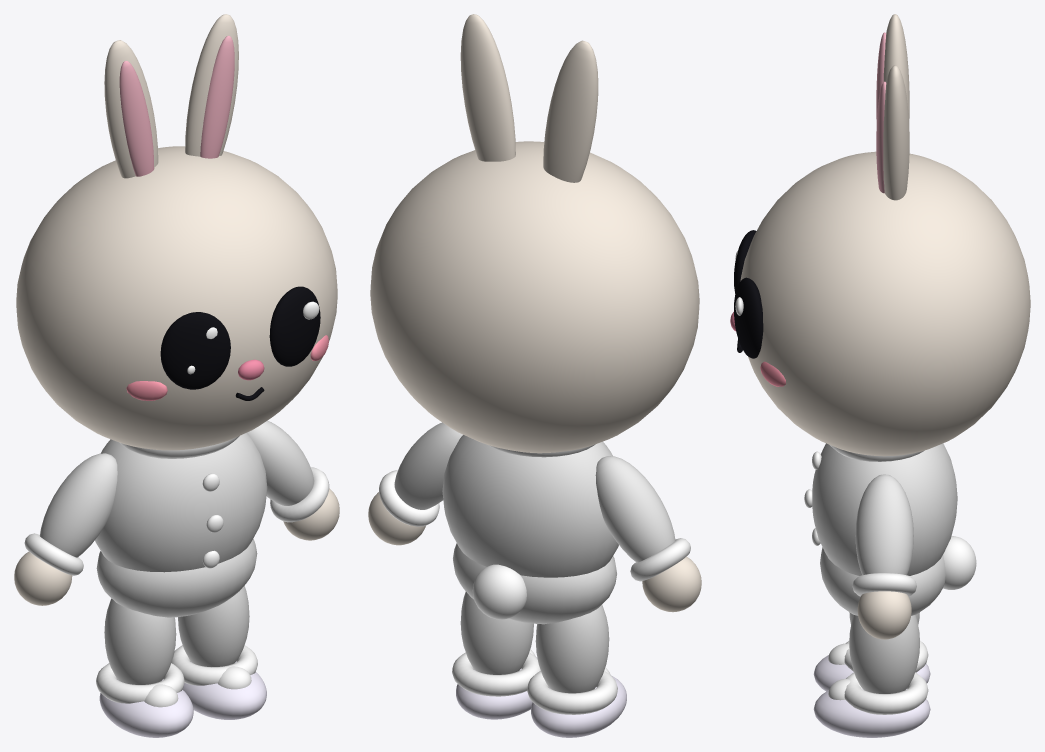
Rendered from Pip_Bunny.fbx.
The picture shows the model from 3 angles, left to right: view 1: azimuth 30°, elevation 25°; view 2: azimuth 150°, elevation 25°; view 3: azimuth 270°, elevation 25°; orthographic projection. The views are drawn at different scales.
Visible parts, largest first — view 1: Pip_Bunny_Head, Pip_Bunny_UpperTorso, Pip_Bunny_LowerTorso, Pip_Bunny_RightUpperArm, Pip_Bunny_RightUpperLeg, Pip_Bunny_LeftUpperLeg, Pip_Bunny_LeftUpperArm, Pip_Bunny_RightFoot, Pip_Bunny_LeftFoot, Pip_Bunny_RightHand, Pip_Bunny_LeftHand; view 2: Pip_Bunny_Head, Pip_Bunny_UpperTorso, Pip_Bunny_RightUpperLeg, Pip_Bunny_LowerTorso, Pip_Bunny_RightUpperArm, Pip_Bunny_LeftUpperLeg, Pip_Bunny_LeftUpperArm, Pip_Bunny_RightFoot, Pip_Bunny_RightHand, Pip_Bunny_LeftFoot, Pip_Bunny_LeftHand; view 3: Pip_Bunny_Head, Pip_Bunny_UpperTorso, Pip_Bunny_LeftUpperArm, Pip_Bunny_LeftUpperLeg, Pip_Bunny_LowerTorso, Pip_Bunny_LeftFoot, Pip_Bunny_LeftHand, Pip_Bunny_RightFoot.
Boxes of the visible parts, x1,y1,x2,y2 form: Pip_Bunny_Head: [16, 14, 337, 450]; Pip_Bunny_UpperTorso: [95, 432, 267, 572]; Pip_Bunny_LowerTorso: [96, 538, 257, 617]; Pip_Bunny_RightUpperArm: [24, 453, 117, 575]; Pip_Bunny_RightUpperLeg: [96, 598, 184, 703]; Pip_Bunny_LeftUpperLeg: [171, 586, 257, 685]; Pip_Bunny_LeftUpperArm: [247, 420, 329, 522]; Pip_Bunny_RightFoot: [99, 679, 193, 737]; Pip_Bunny_LeftFoot: [182, 661, 266, 719]; Pip_Bunny_RightHand: [14, 551, 72, 605]; Pip_Bunny_LeftHand: [283, 488, 339, 540]; Pip_Bunny_Head: [370, 14, 699, 453]; Pip_Bunny_UpperTorso: [442, 435, 618, 577]; Pip_Bunny_RightUpperLeg: [527, 604, 617, 714]; Pip_Bunny_LowerTorso: [453, 543, 616, 624]; Pip_Bunny_RightUpperArm: [595, 456, 690, 581]; Pip_Bunny_LeftUpperLeg: [452, 591, 540, 696]; Pip_Bunny_LeftUpperArm: [379, 422, 462, 526]; Pip_Bunny_RightFoot: [531, 668, 626, 737]; Pip_Bunny_RightHand: [642, 556, 701, 612]; Pip_Bunny_LeftFoot: [456, 649, 537, 719]; Pip_Bunny_LeftHand: [368, 492, 425, 545]; Pip_Bunny_Head: [730, 14, 1030, 456]; Pip_Bunny_UpperTorso: [804, 443, 957, 575]; Pip_Bunny_LeftUpperArm: [852, 474, 916, 596]; Pip_Bunny_LeftUpperLeg: [844, 615, 928, 714]; Pip_Bunny_LowerTorso: [820, 536, 976, 615]; Pip_Bunny_LeftFoot: [813, 678, 930, 737]; Pip_Bunny_LeftHand: [857, 591, 911, 639]; Pip_Bunny_RightFoot: [813, 643, 930, 691].
Bounding box in the file's own units: 1.74 × 3.56 × 1.44.
